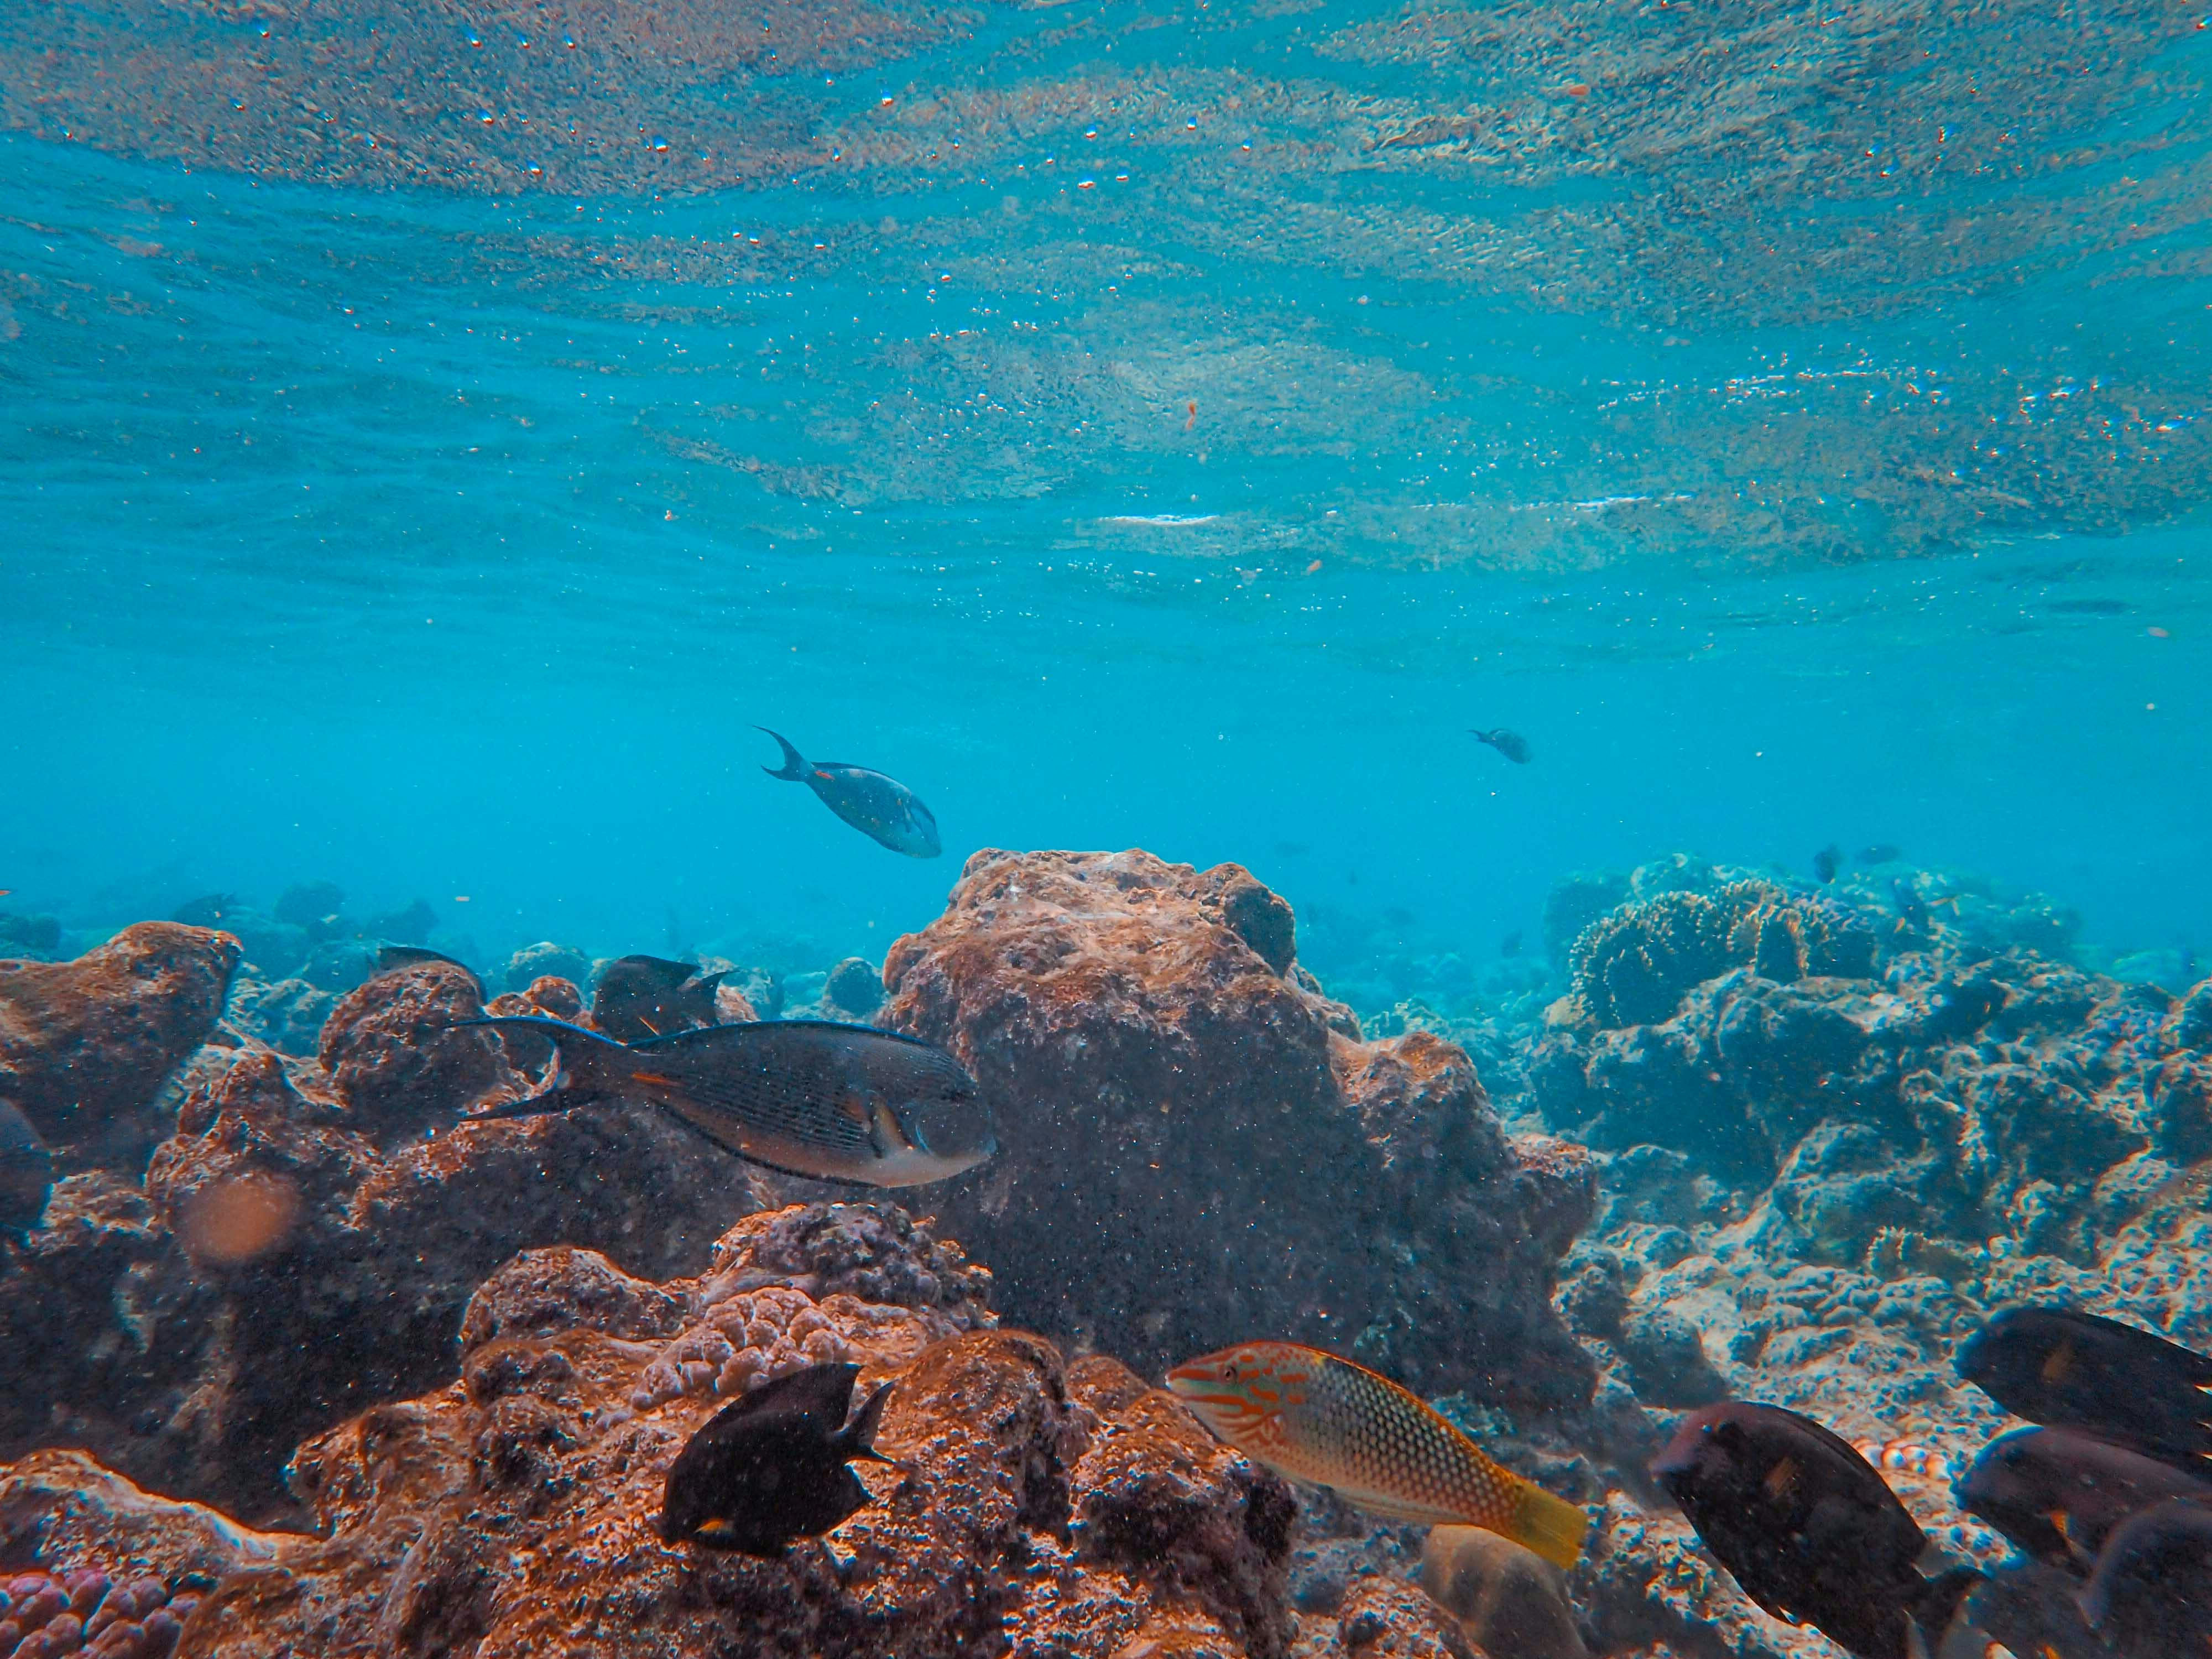fishRound: (458, 1012, 1001, 1190), (1649, 1394, 1993, 1659), (653, 1358, 914, 1561), (1951, 1302, 2212, 1469), (1946, 1415, 2200, 1574), (754, 723, 946, 863), (2073, 1499, 2205, 1659), (583, 953, 737, 1039), (1468, 720, 1536, 767)
fishSmall: (1165, 1337, 1590, 1570)
